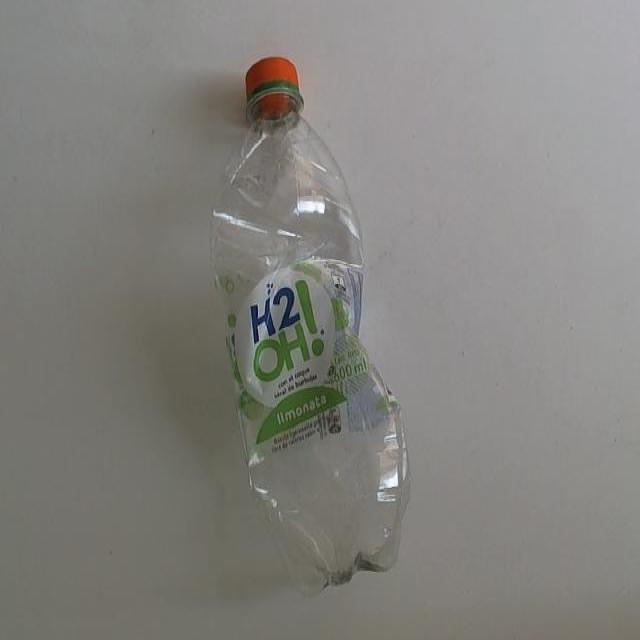defect: (207, 52, 413, 602)
